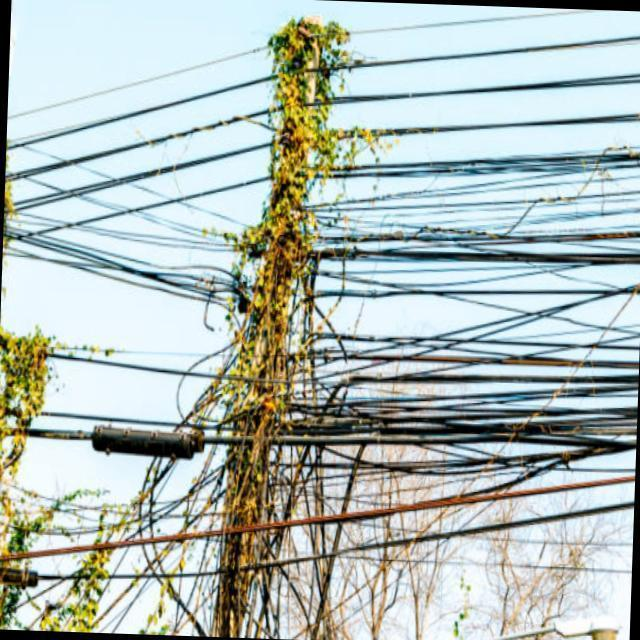critical vegetation: (216, 9, 341, 610)
